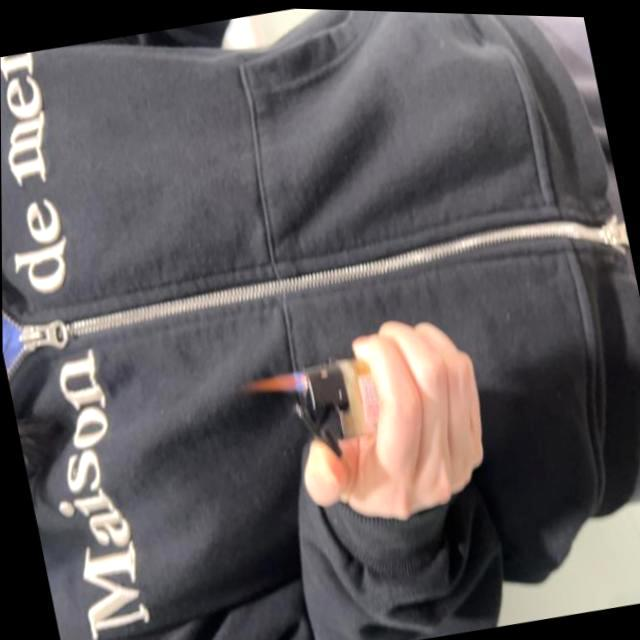fire: (238, 361, 306, 399)
